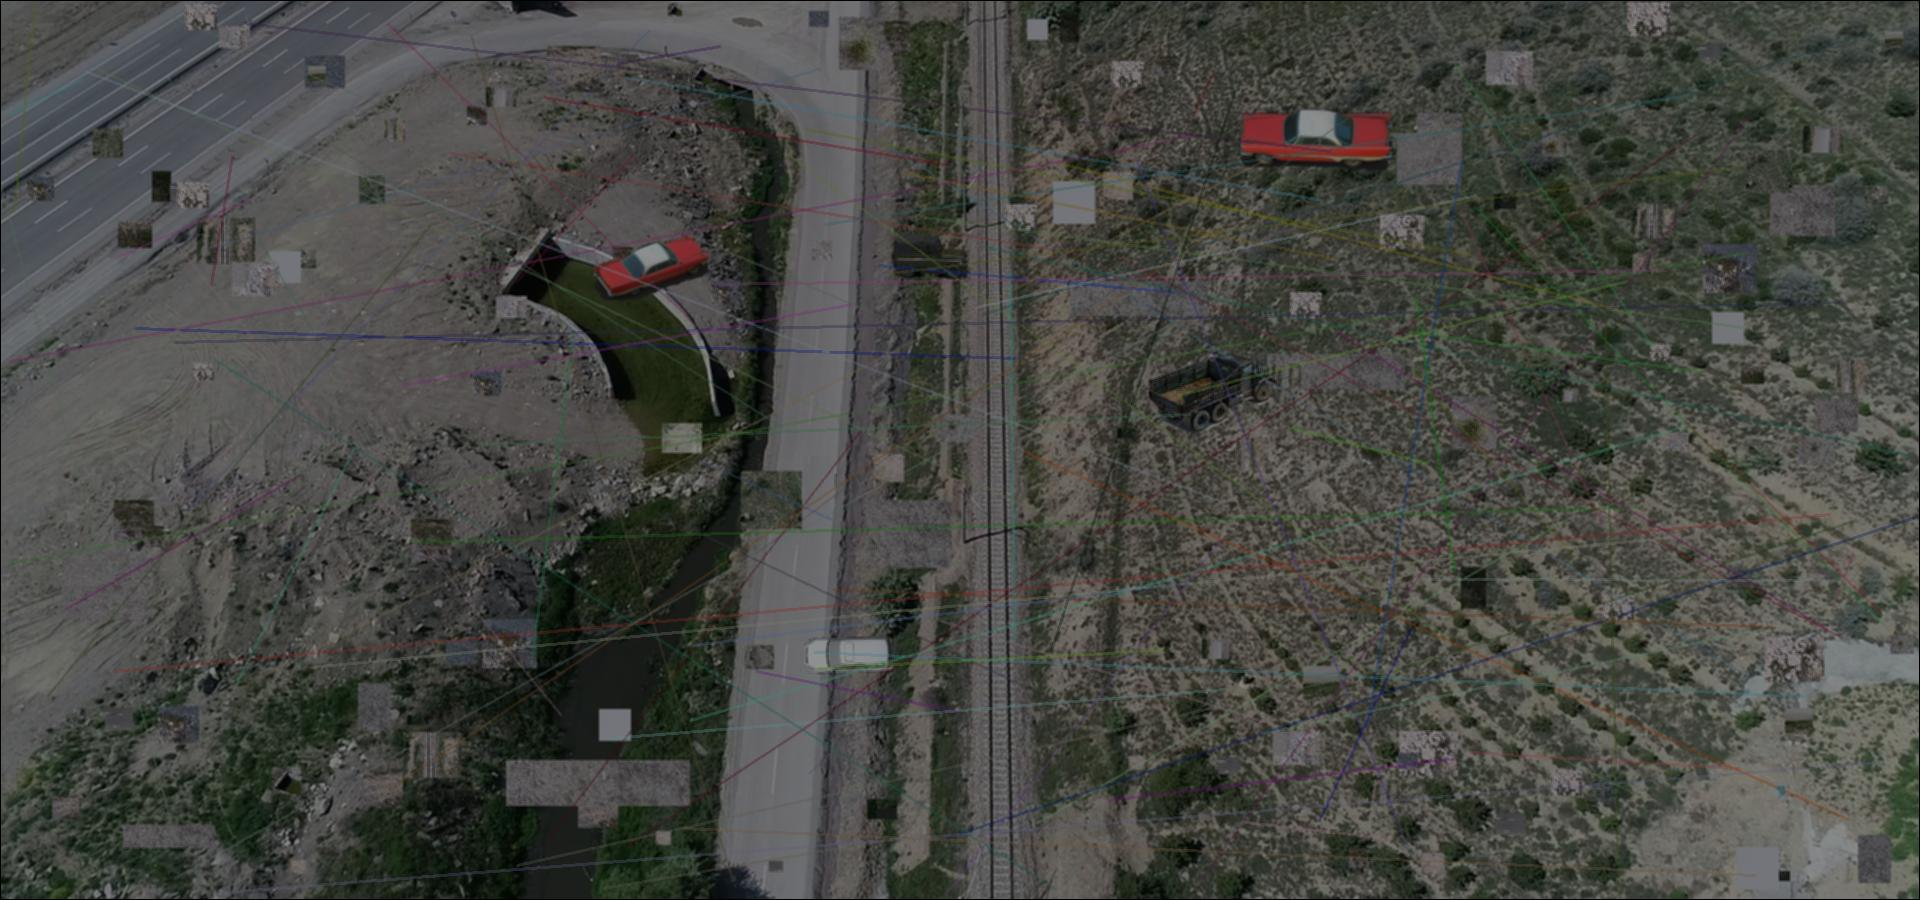arac: (1233, 105, 1411, 170), (1145, 349, 1276, 433), (594, 235, 708, 300), (804, 633, 895, 677), (890, 234, 969, 279)
